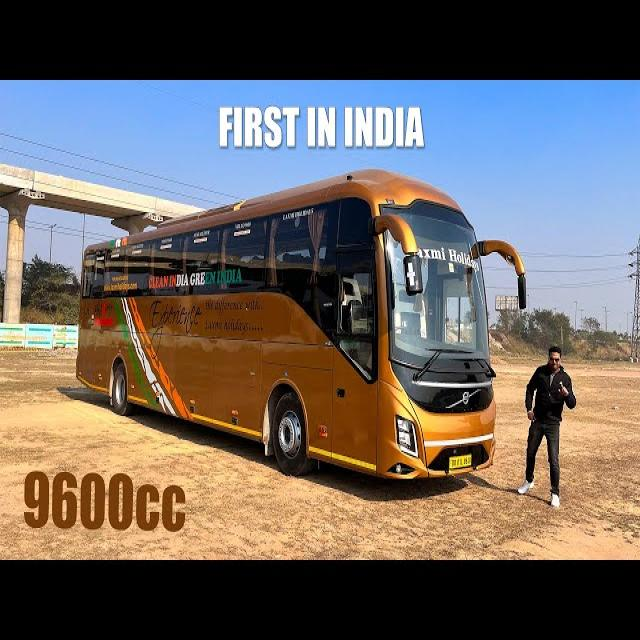bus: (76, 170, 526, 478)
